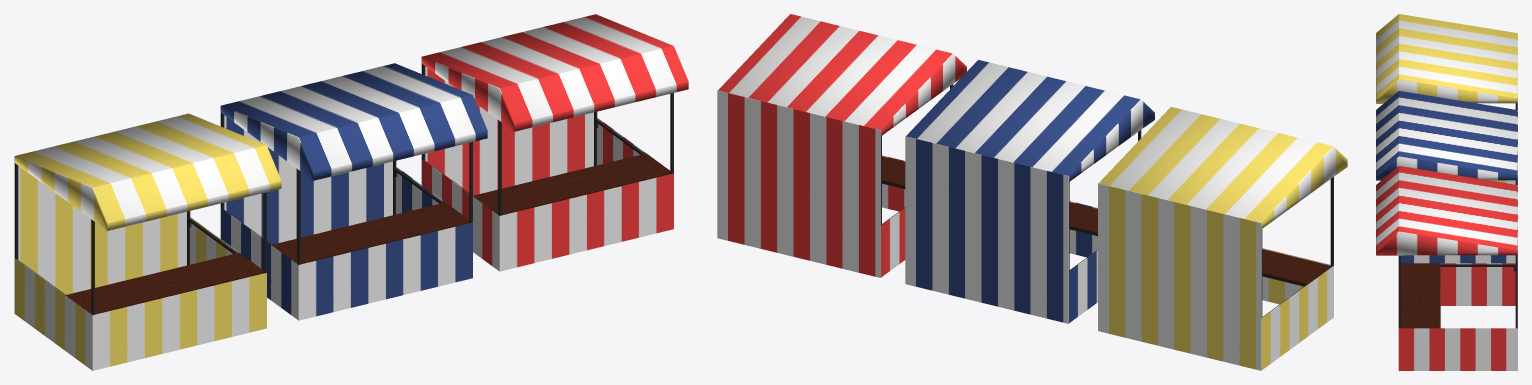
Rendered from side_stalls.glb.
3 renders of one model, left to right at view 1: azimuth 30°, elevation 25°; view 2: azimuth 150°, elevation 25°; view 3: azimuth 270°, elevation 25°, orthographic. The views are drawn at different scales.
Visible parts, largest first — view 1: banner.005, banner, banner.008, banner.003, banner.001, banner.006, banner.004, banner.002, banner.007, table.001, table, table.002 (+4 smaller); view 2: banner.002, banner.007, banner.004, banner.005, banner, banner.008, banner.003, banner.001, banner.006, table.001, table, table.002; view 3: banner.008, banner.005, banner, banner.006, table.002, banner.001, Cube.032, Cube.031, Cube.030, banner.007.
Boxes of the visible parts, <box> form: banner.005: <box>14,113,281,230</box>; banner: <box>220,63,487,180</box>; banner.008: <box>421,14,688,131</box>; banner.003: <box>15,217,266,370</box>; banner.001: <box>221,166,472,320</box>; banner.006: <box>422,117,673,271</box>; banner.004: <box>14,156,186,313</box>; banner.002: <box>220,63,395,244</box>; banner.007: <box>421,14,596,195</box>; table.001: <box>65,252,263,314</box>; table: <box>272,202,469,264</box>; table.002: <box>473,153,670,215</box>; banner.002: <box>905,136,1068,323</box>; banner.007: <box>717,90,880,277</box>; banner.004: <box>1098,183,1261,370</box>; banner.005: <box>1099,107,1347,228</box>; banner: <box>906,60,1154,181</box>; banner.008: <box>718,14,966,135</box>; banner.003: <box>1261,248,1333,369</box>; banner.001: <box>1069,201,1097,322</box>; banner.006: <box>881,155,905,277</box>; table.001: <box>1262,249,1332,284</box>; table: <box>1069,202,1097,233</box>; table.002: <box>882,156,905,186</box>; banner.008: <box>1376,166,1517,255</box>; banner.005: <box>1376,14,1517,103</box>; banner: <box>1376,91,1517,180</box>; banner.006: <box>1398,263,1517,370</box>; table.002: <box>1400,263,1440,328</box>; banner.001: <box>1400,255,1515,263</box>; Cube.032: <box>1440,264,1515,271</box>; Cube.031: <box>1515,255,1517,328</box>; Cube.030: <box>1398,255,1400,328</box>; banner.007: <box>1517,185,1517,370</box>.
Bounding box in the file's own units: 39.85 × 11.99 × 11.
5 materials, 4 textured.
